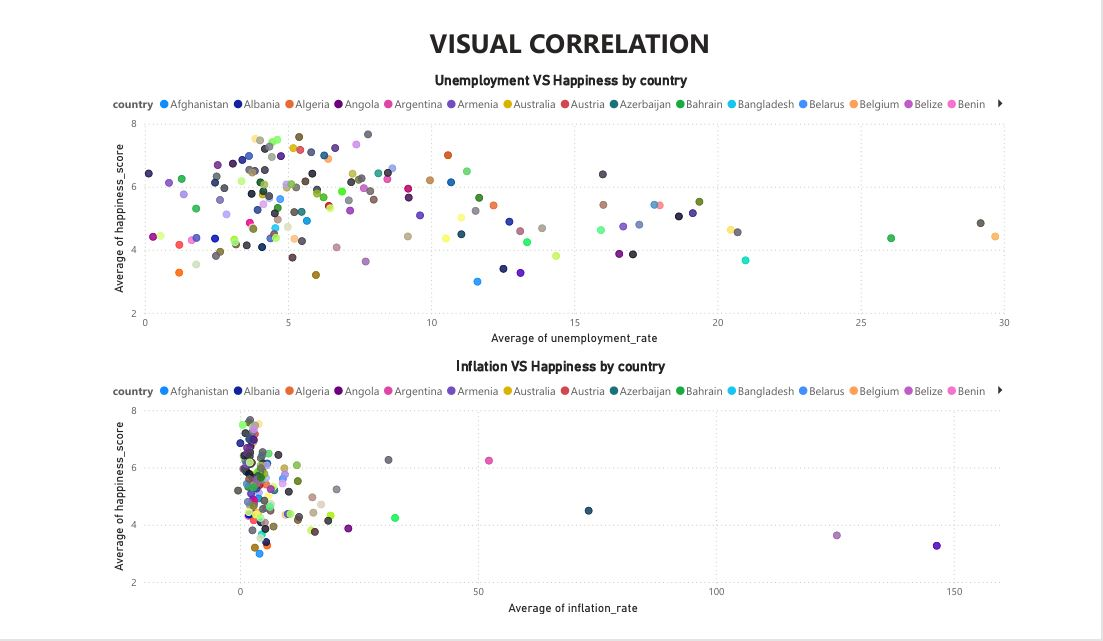

What the dashboard file says about the page in this screenshot:
{"tool":"powerbi","page":{"name":"Visual Correlation","canvas":[1280,720],"ordinal":2},"visuals":[{"type":"scatterChart","title":"Unemployment VS Happiness by country","fields":{"X":["Avg(happiness inflation unemployment.unemployment_rate)"],"Y":["Avg(happiness inflation unemployment.happiness_score)"],"Series":["happiness inflation unemployment.country"]},"box":[107.7,62.1,1091.1,334.2],"z":0},{"type":"scatterChart","title":"Inflation VS Happiness by country","fields":{"Y":["Avg(happiness inflation unemployment.happiness_score)"],"X":["Avg(happiness inflation unemployment.inflation_rate)"],"Series":["happiness inflation unemployment.country"]},"box":[108,407,1091,313],"z":1000},{"type":"textbox","box":[489.9,0,465.2,61.7],"z":2000}]}

Visuals, with their boxes on the page's 1280x720 design canvas (x1, y1, x2, y2). These are canvas units, not pixel positions in the 1103x641 screenshot, which may show the page scaled, cropped or inside an application window:
"Unemployment VS Happiness by country" scatterChart: 108 62 1199 396
"Inflation VS Happiness by country" scatterChart: 108 407 1199 720
textbox: 490 0 955 62
